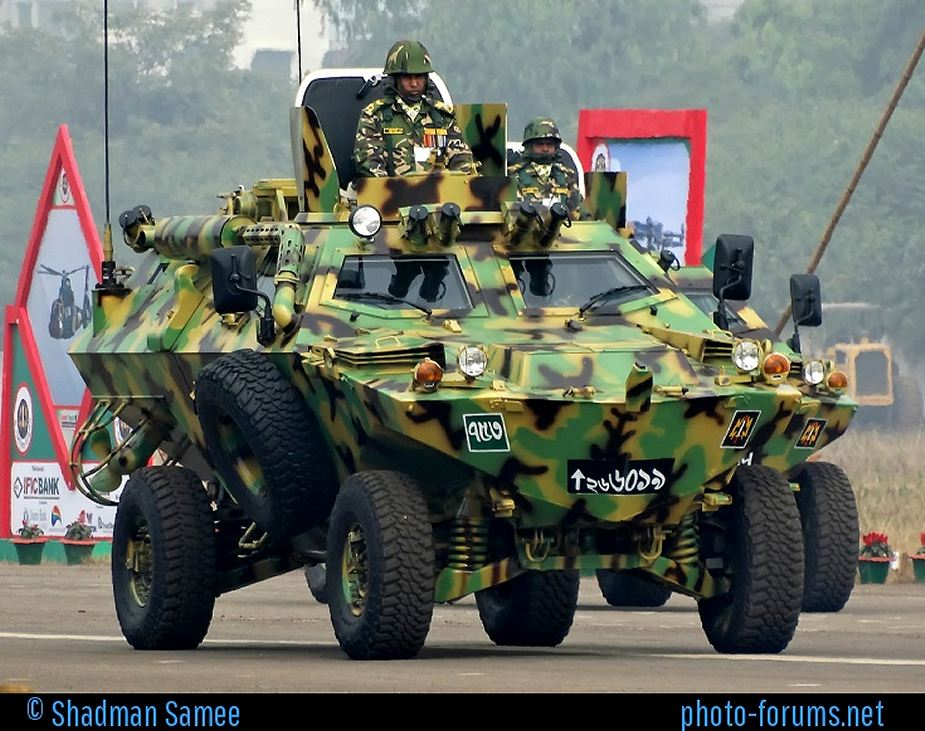army vehicle: (79, 69, 856, 664)
